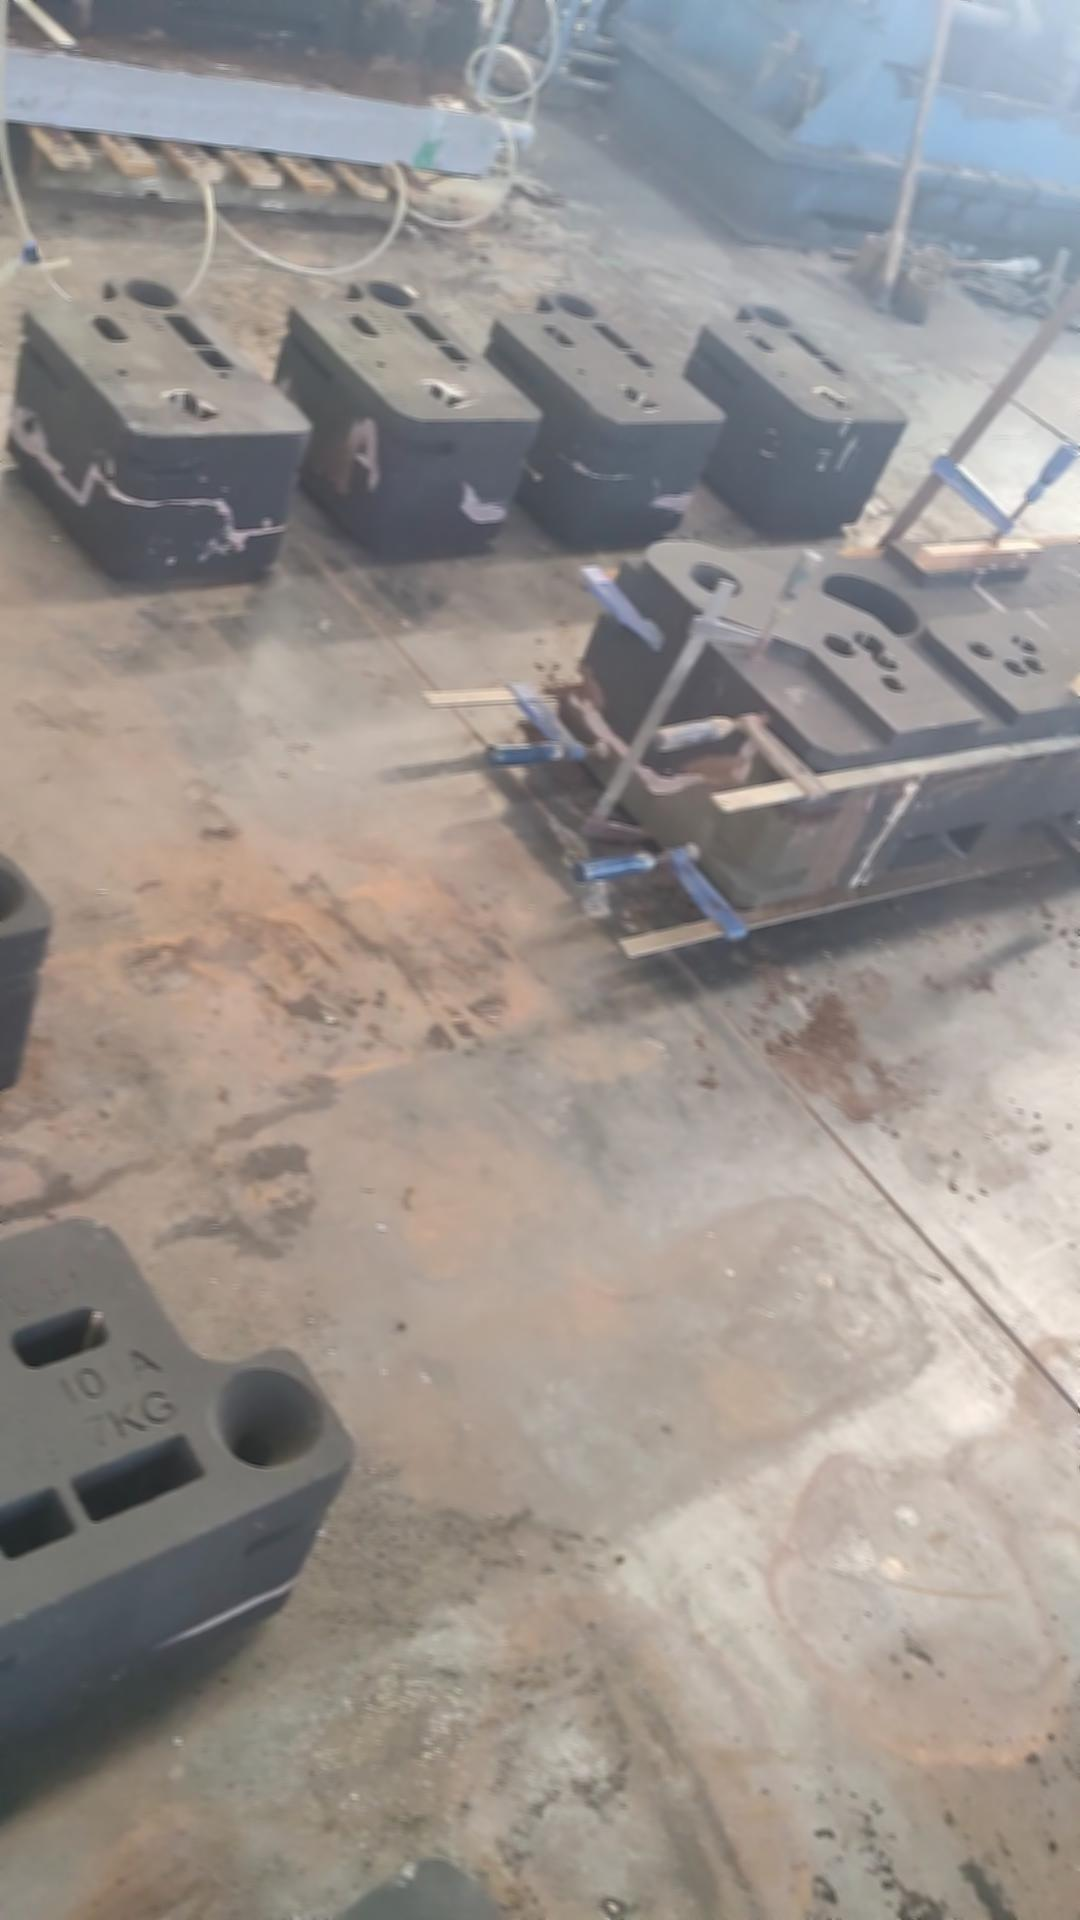pouring hole: (215, 1366, 327, 1469), (688, 559, 742, 596), (1, 861, 30, 927), (123, 280, 177, 309), (367, 280, 415, 307), (553, 291, 596, 319), (754, 306, 790, 328), (909, 266, 939, 287), (927, 245, 957, 262), (880, 255, 909, 272), (889, 229, 915, 247), (866, 233, 891, 247), (905, 249, 926, 264)
